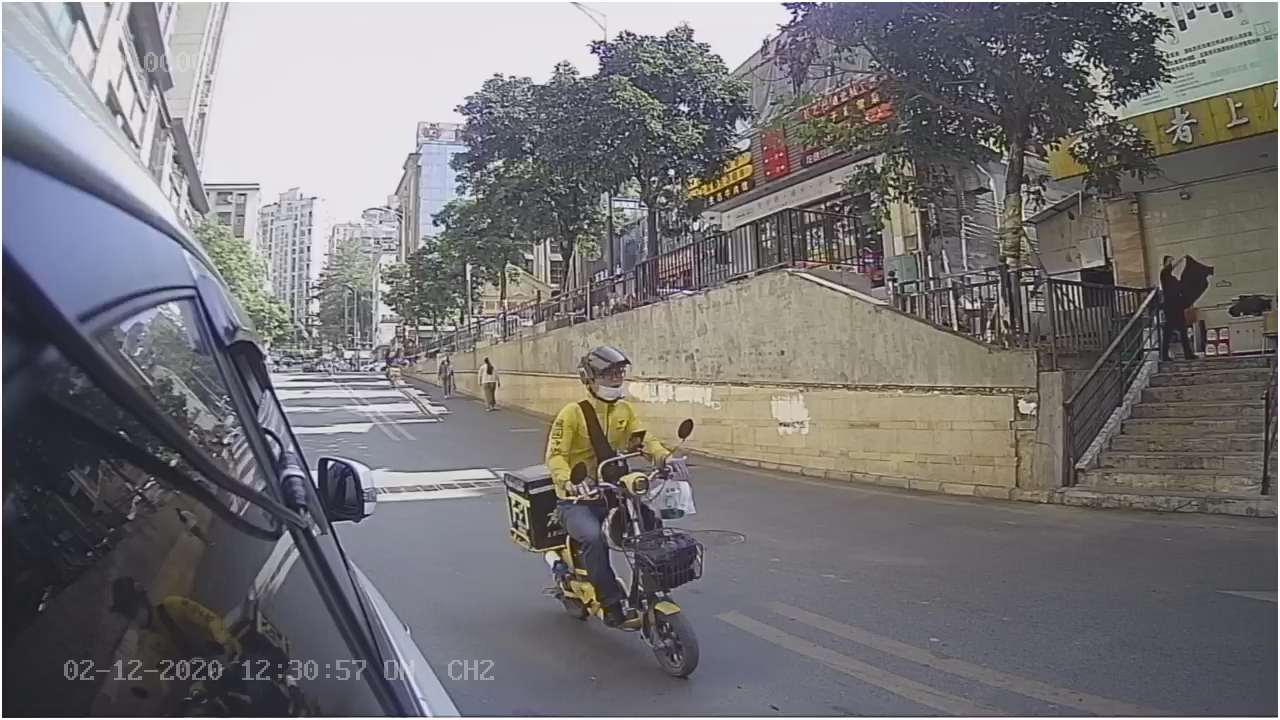person: (548, 340, 663, 498)
